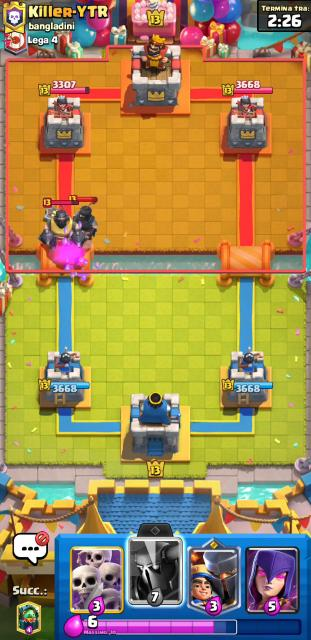enemy_melee: (40, 197, 90, 247), (68, 195, 98, 251)
